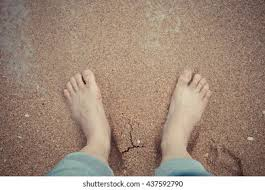Feet: (159, 67, 213, 152), (62, 68, 112, 155)
